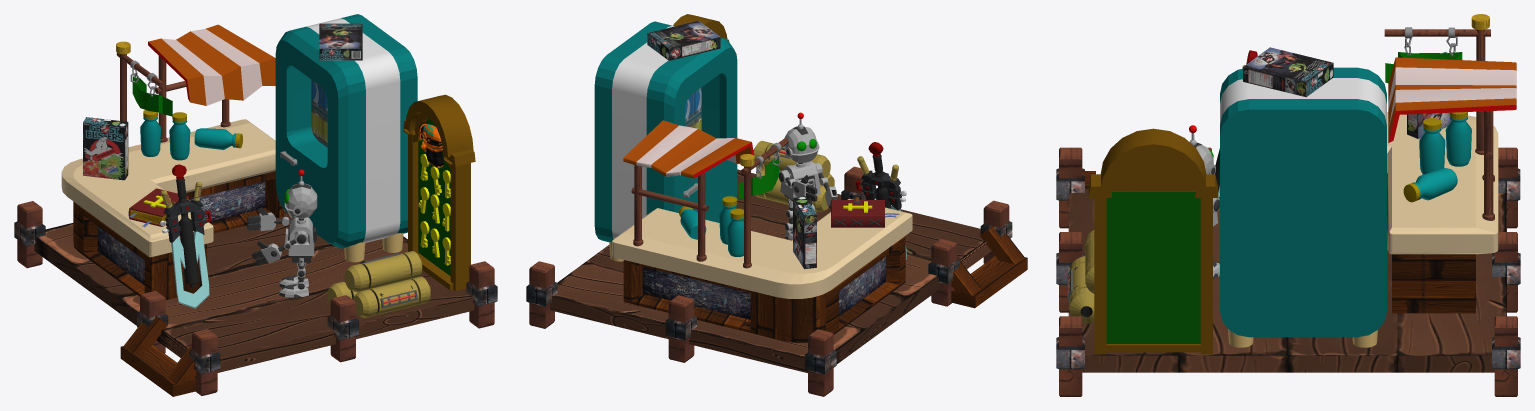
Rendered from nerdbar-transformed.glb.
The picture shows the model from 3 angles, left to right: view 1: azimuth 30°, elevation 25°; view 2: azimuth 150°, elevation 25°; view 3: azimuth 270°, elevation 25°; orthographic projection. The views are drawn at different scales.
Visible parts, largest first — view 1: pCube3, pCube2, pCube1, pCube11, pCylinder1 (×2), GhjostCereals_0003:pCube1, pCube5, pCube9, energytank_0002:pCylinder1, pCube13, pCube22, pCube19 (+21 smaller); view 2: pCube1, pCube3, pCube2, pCube11, pCube22, pCylinder1 (×3), pCube13, pCube10, pCube21, pCube20, GhjostCereals_0003:pCube1, pCube16 (+17 smaller); view 3: pCube3, pCube2, pCube1, pCube9, pCube11, pCylinder1 (×2), pCube22, pCube19, pCube20, pCube5, pCube4, pCube17 (+13 smaller).
Boxes of the visible parts, <box> form: pCube3: <box>275,14,417,248</box>; pCube2: <box>34,209,474,372</box>; pCube1: <box>61,119,283,300</box>; pCube11: <box>148,24,275,105</box>; pCylinder1 (×2): <box>344,94,473,292</box>; GhjostCereals_0003:pCube1: <box>83,117,128,180</box>; pCube5: <box>450,163,470,290</box>; pCube9: <box>418,140,450,275</box>; energytank_0002:pCylinder1: <box>353,276,430,317</box>; pCube13: <box>120,345,196,396</box>; pCube22: <box>319,23,362,60</box>; pCube19: <box>466,261,497,328</box>; pCube1: <box>612,199,912,342</box>; pCube3: <box>594,21,737,242</box>; pCube2: <box>550,169,991,372</box>; pCube11: <box>623,120,753,178</box>; pCube22: <box>647,20,720,60</box>; pCylinder1 (×3): <box>673,14,830,212</box>; pCube13: <box>951,256,1027,308</box>; pCube10: <box>805,329,836,396</box>; pCube21: <box>665,295,696,362</box>; pCube20: <box>526,261,557,328</box>; GhjostCereals_0003:pCube1: <box>793,196,816,269</box>; pCube16: <box>928,239,959,306</box>; pCube3: <box>1220,67,1386,337</box>; pCube2: <box>1068,188,1506,372</box>; pCube1: <box>1387,112,1498,313</box>; pCube9: <box>1106,192,1200,343</box>; pCube11: <box>1388,57,1516,142</box>; pCylinder1 (×2): <box>1085,128,1206,293</box>; pCube22: <box>1243,47,1333,97</box>; pCube19: <box>1056,316,1084,396</box>; pCube20: <box>1492,316,1520,396</box>; pCube5: <box>1094,198,1106,354</box>; pCube4: <box>1200,198,1212,354</box>; pCube17: <box>1056,147,1084,228</box>.
Bounding box in the file's own units: 34.47 × 24.48 × 34.91.
47 materials, 8 textured.
